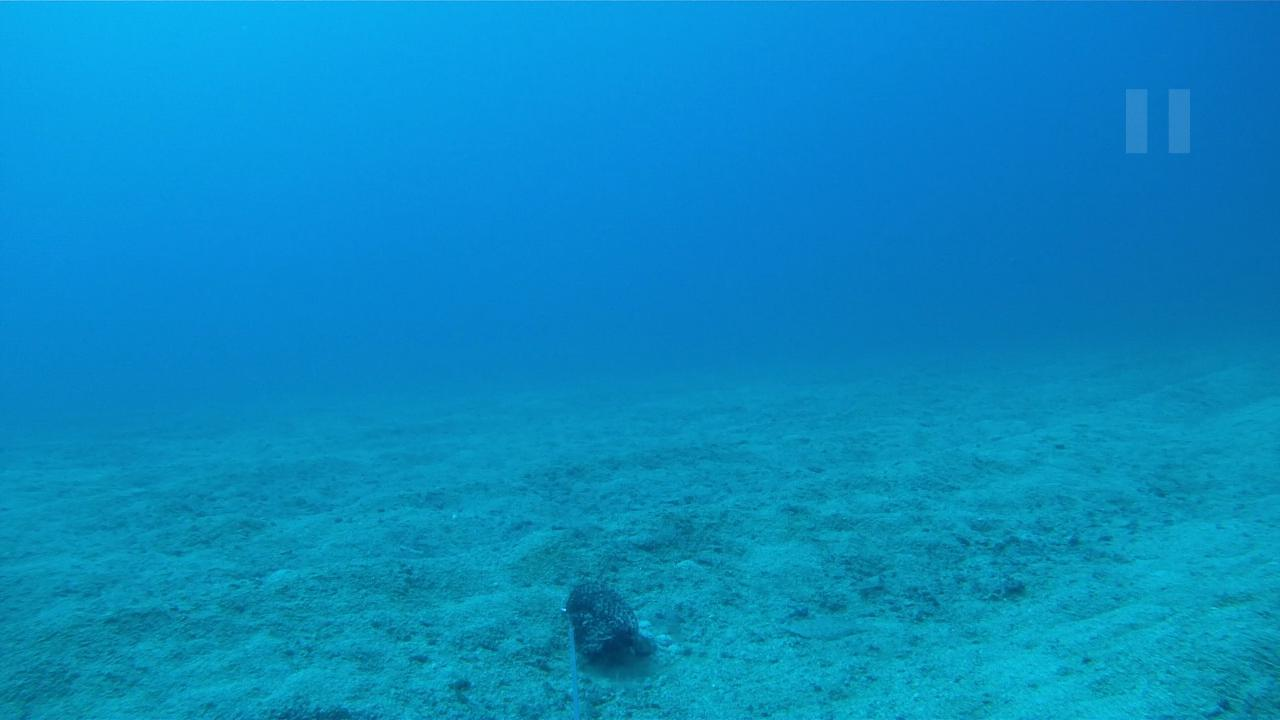bothus: (776, 610, 874, 636)
